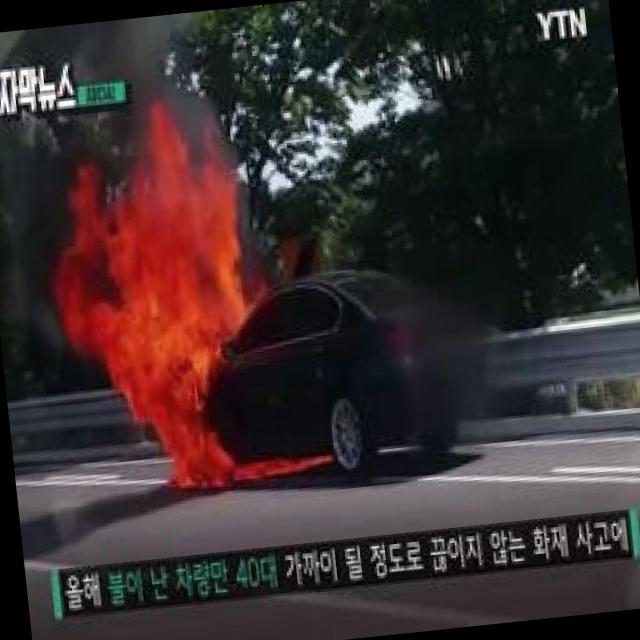Fire: (74, 133, 258, 500)
